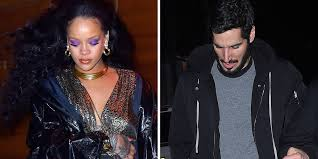middle_eastern_Female: (62, 5, 111, 69)
